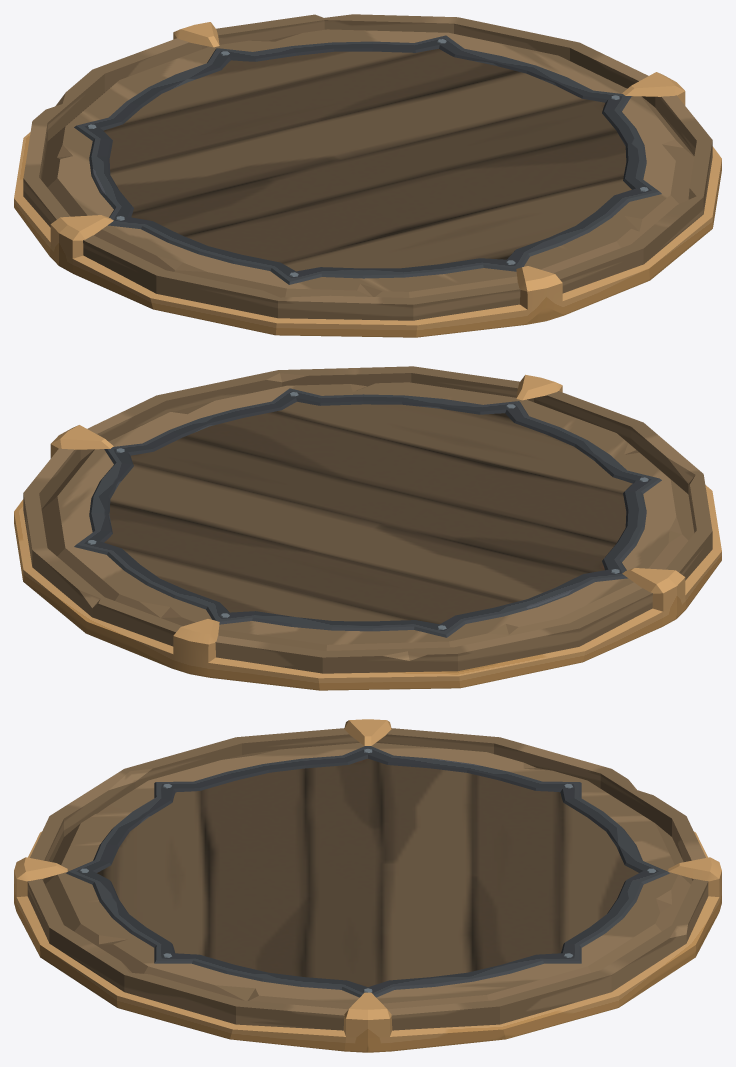
File: SM_Prop_Cannon_Base_01.fbx
The picture shows the model from 3 angles, top to bottom: view 1: azimuth 30°, elevation 25°; view 2: azimuth 150°, elevation 25°; view 3: azimuth 270°, elevation 25°; orthographic projection.
Visible parts, largest first — view 1: SM_Prop_Cannon_Base_01; view 2: SM_Prop_Cannon_Base_01; view 3: SM_Prop_Cannon_Base_01.
Part boxes in pixels (<box>): SM_Prop_Cannon_Base_01: <box>14,14,721,337</box>; SM_Prop_Cannon_Base_01: <box>14,366,721,690</box>; SM_Prop_Cannon_Base_01: <box>14,719,721,1052</box>.
Size of the model in its own units: 619 by 37.34 by 619.
